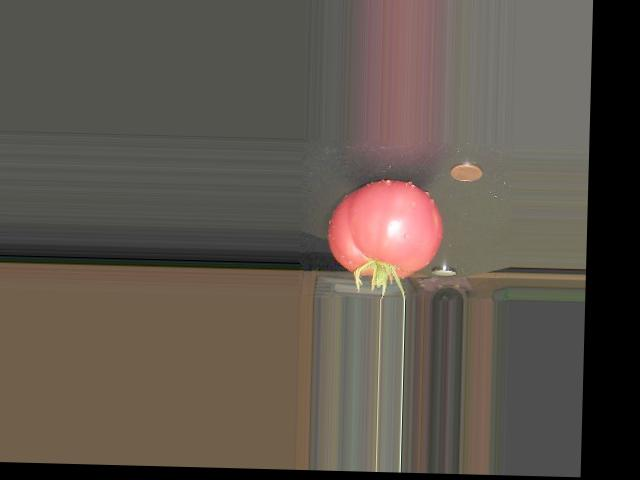tomato: (326, 178, 443, 279)
